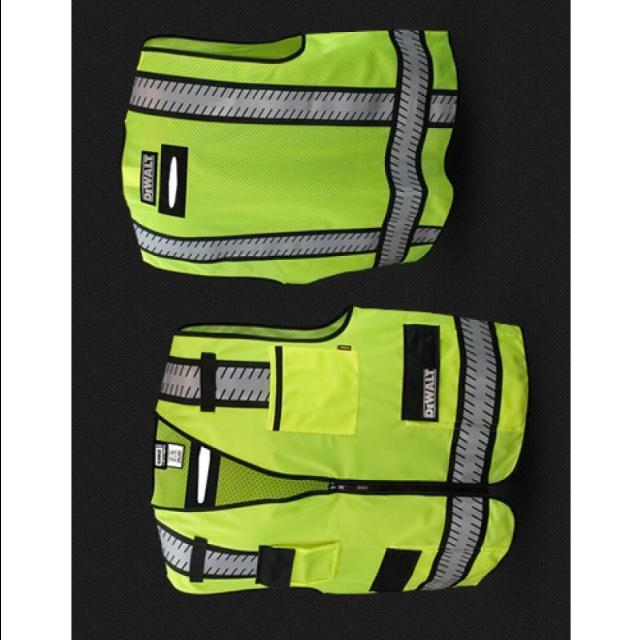jacket: (152, 308, 534, 614)
